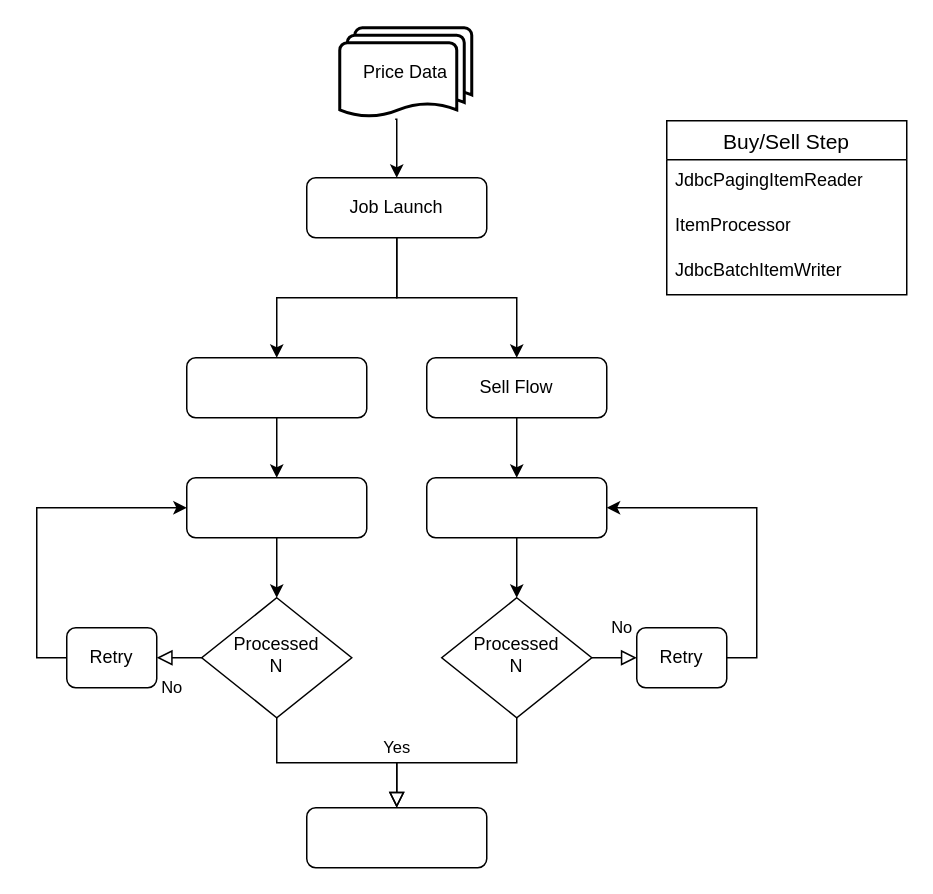
This 933x894 diagram has some shape labels left out. Here are the shapes that lost their labels. From the top down, the centre of each, then its label:
At point 276,387: "Buy Flow".
At point 276,507: "Buy Step".
At point 516,507: "Sell Step".
At point 396,837: "Complete Step".
